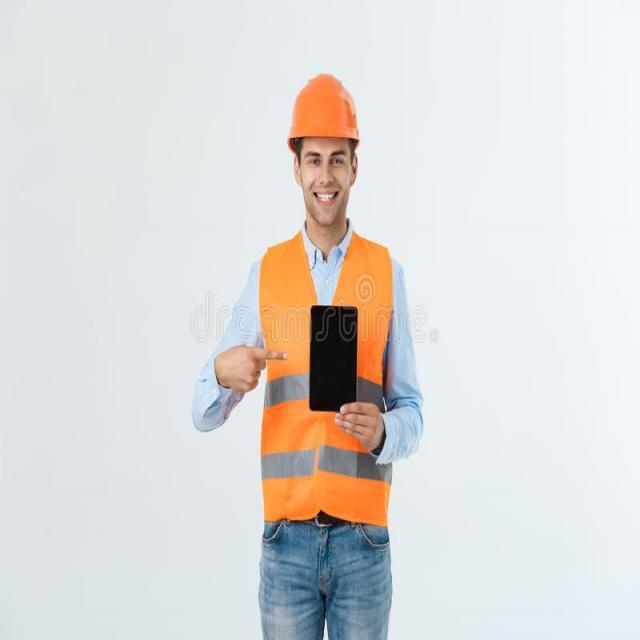reflective_jacket: (252, 233, 397, 531)
safety_helmet: (284, 67, 361, 151)
